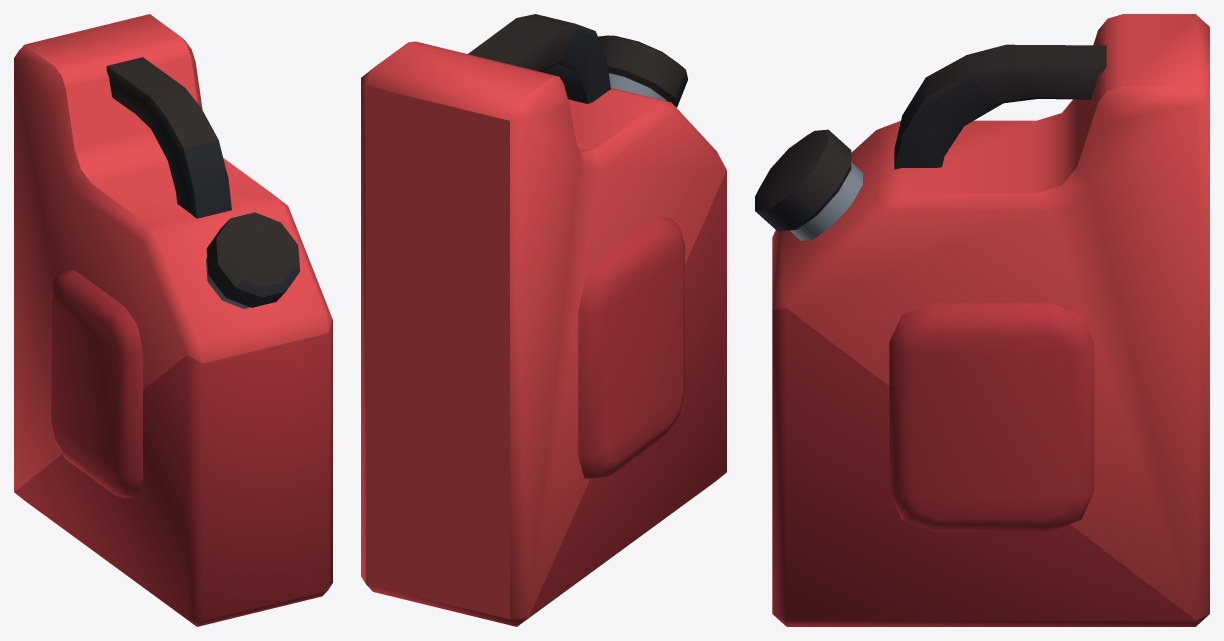
File: galao_combustivel_pacote.glb
The picture shows the model from 3 angles, left to right: view 1: azimuth 30°, elevation 25°; view 2: azimuth 150°, elevation 25°; view 3: azimuth 270°, elevation 25°; orthographic projection. The views are drawn at different scales.
Parts seen in each view (by area): view 1: galao_combustivel_pacote; view 2: galao_combustivel_pacote; view 3: galao_combustivel_pacote.
Part boxes in pixels (<box>): galao_combustivel_pacote: <box>14,14,332,626</box>; galao_combustivel_pacote: <box>361,14,726,626</box>; galao_combustivel_pacote: <box>755,14,1209,626</box>.
Bounding box in the file's own units: 0.2035 × 0.5006 × 0.3819.
1 material, 1 textured.
